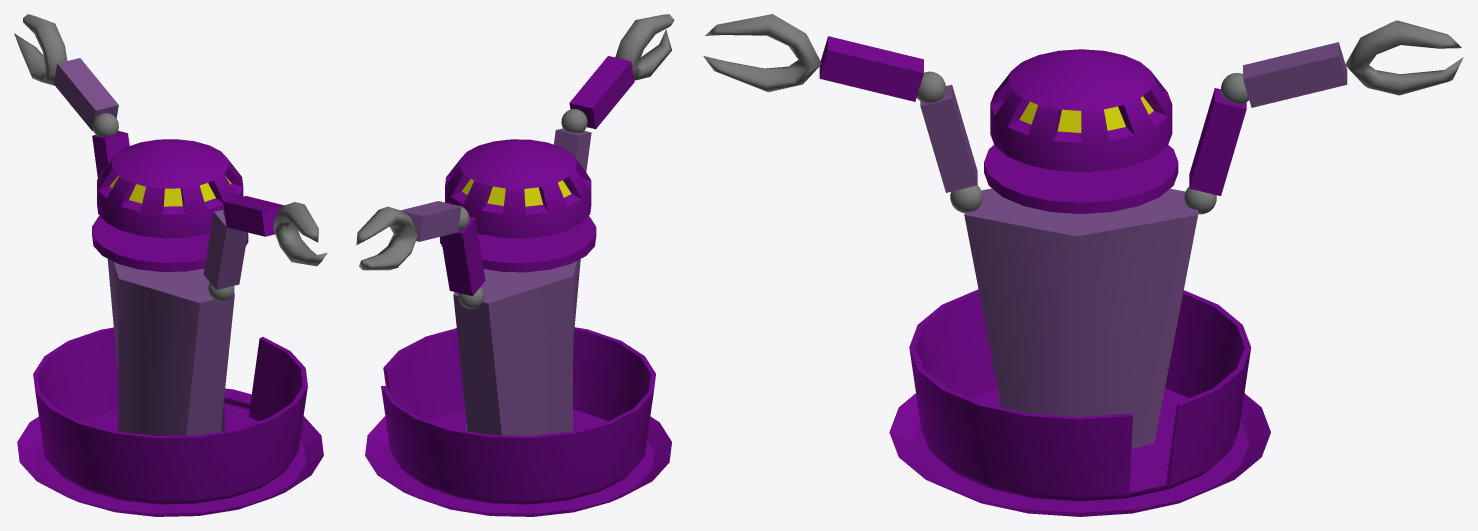
File: teacup.fbx
3 renders of one model, left to right at view 1: azimuth 30°, elevation 25°; view 2: azimuth 150°, elevation 25°; view 3: azimuth 270°, elevation 25°, orthographic. The views are drawn at different scales.
Parts seen in each view (by area): view 1: pCylinder3; view 2: pCylinder3; view 3: pCylinder3.
Boxes of the visible parts, x1=… form: pCylinder3: x1=14, y1=14, x2=327, y2=516; pCylinder3: x1=356, y1=14, x2=674, y2=516; pCylinder3: x1=703, y1=14, x2=1463, y2=516.
Size of the model in its own units: 2 by 2.5 by 3.99.
